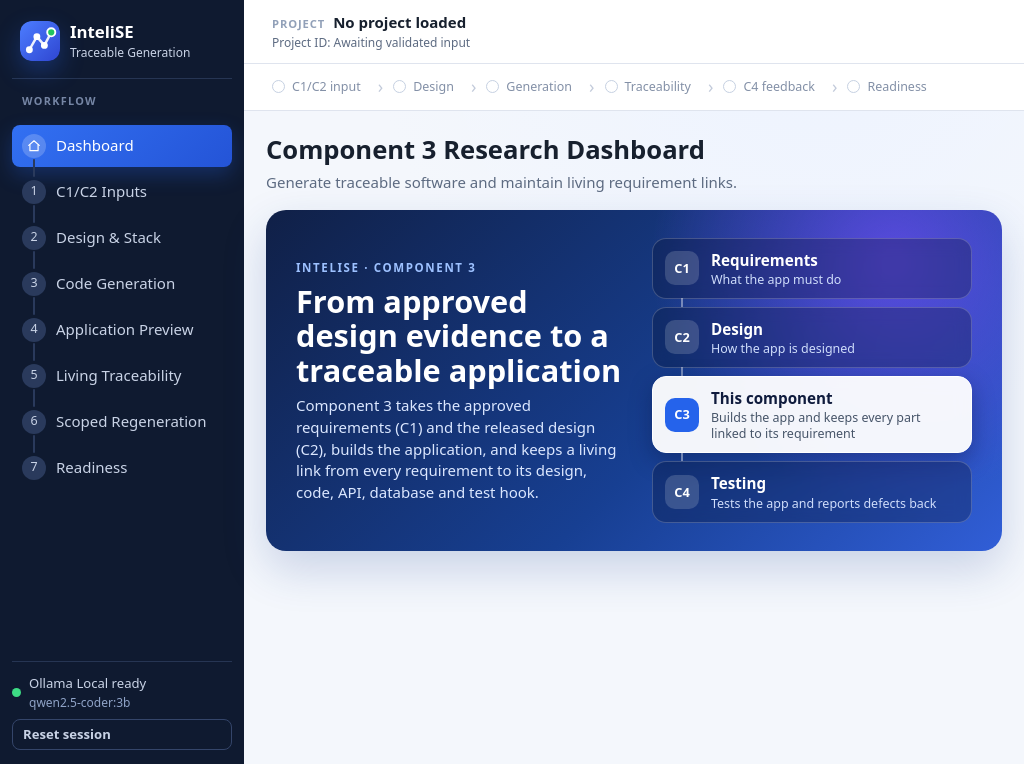
Scenario: Design coverage card › disables the button and explains the next step without a validated context
Click the button "2 Design & Stack" at (122, 238), box [12,216,232,258]
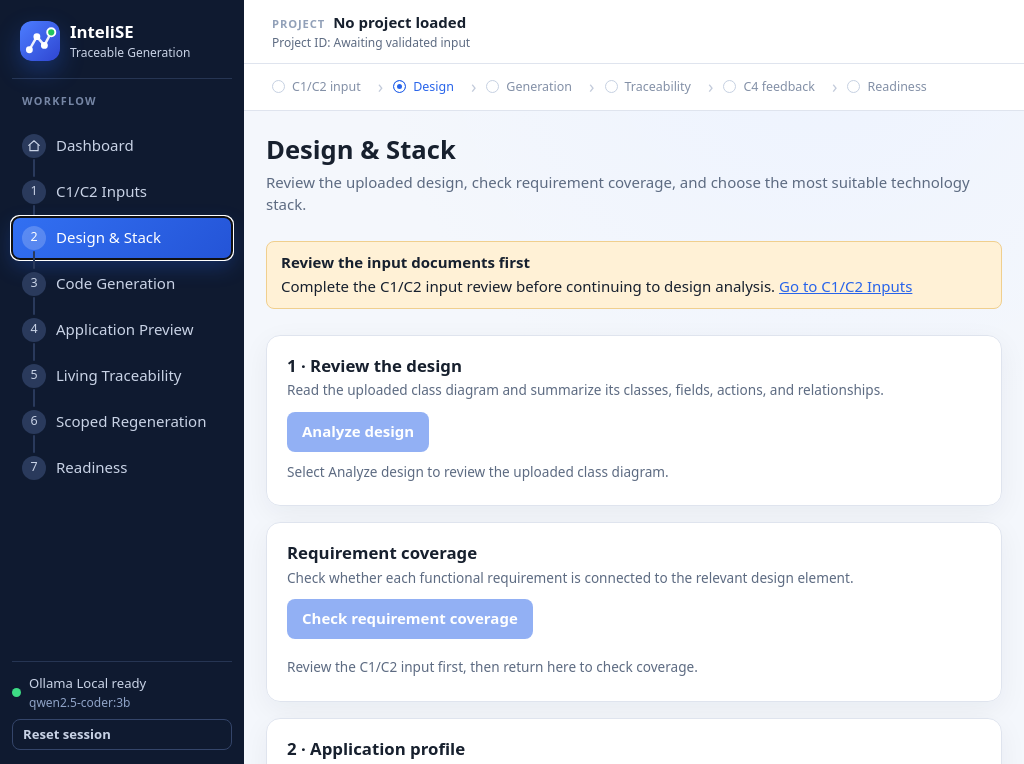
Now the button "Check requirement coverage" is disabled, box [287,599,533,639]
Now the text "Review the C1/C2 input first" is shown, box [287,657,698,676]
